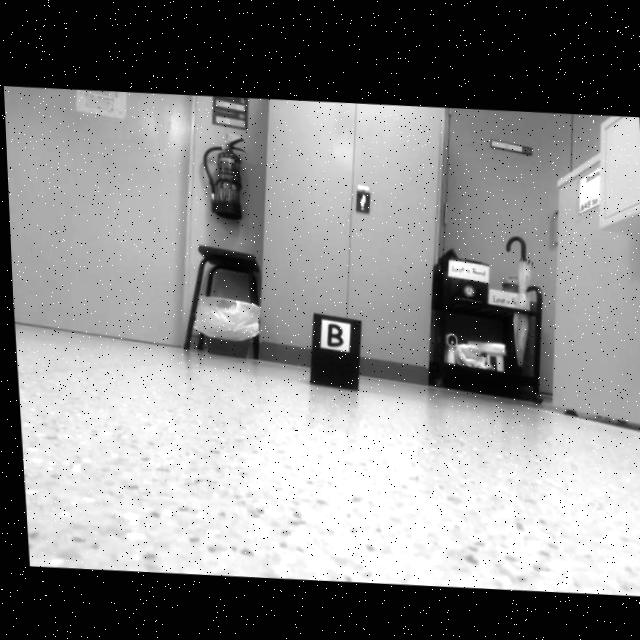B: (323, 319, 340, 343)
